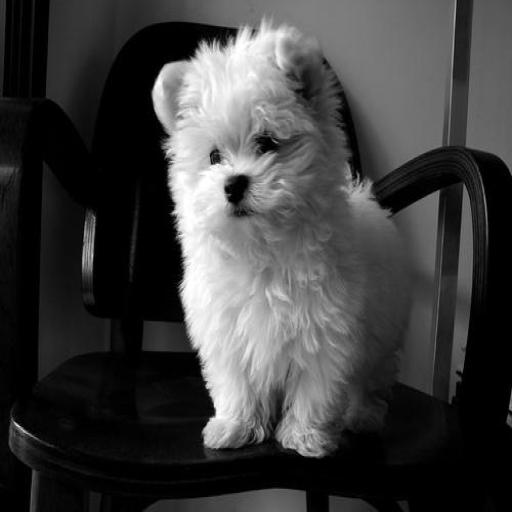dog_face: (150, 30, 347, 244)
